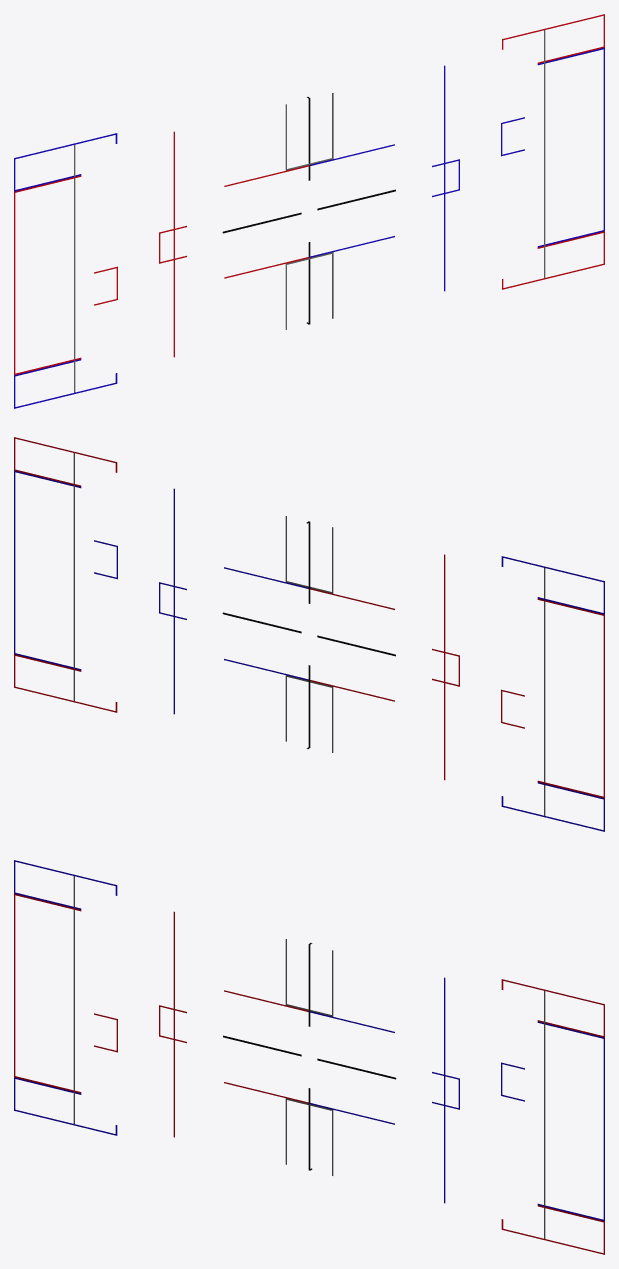
The model's file is optTape.fbx.
The picture shows the model from 3 angles, top to bottom: view 1: azimuth 30°, elevation 25°; view 2: azimuth 150°, elevation 25°; view 3: azimuth 330°, elevation 25°; orthographic projection.
Visible parts, largest first — view 1: BlueTape, RedTape, GreyTape, CenterBars; view 2: BlueTape, RedTape, GreyTape, CenterBars; view 3: BlueTape, RedTape, GreyTape, CenterBars.
Part boxes in pixels (x1=…): BlueTape: x1=14, y1=47, x2=604, y2=408; RedTape: x1=14, y1=14, x2=604, y2=375; GreyTape: x1=74, y1=30, x2=545, y2=392; CenterBars: x1=222, y1=97, x2=395, y2=324; BlueTape: x1=14, y1=470, x2=604, y2=831; RedTape: x1=14, y1=437, x2=604, y2=798; GreyTape: x1=73, y1=453, x2=545, y2=815; CenterBars: x1=222, y1=521, x2=395, y2=748; BlueTape: x1=14, y1=860, x2=604, y2=1221; RedTape: x1=14, y1=893, x2=604, y2=1254; GreyTape: x1=73, y1=876, x2=545, y2=1238; CenterBars: x1=223, y1=943, x2=396, y2=1170.
Size of the model in its own units: 225552 by 91440 by 1524.
